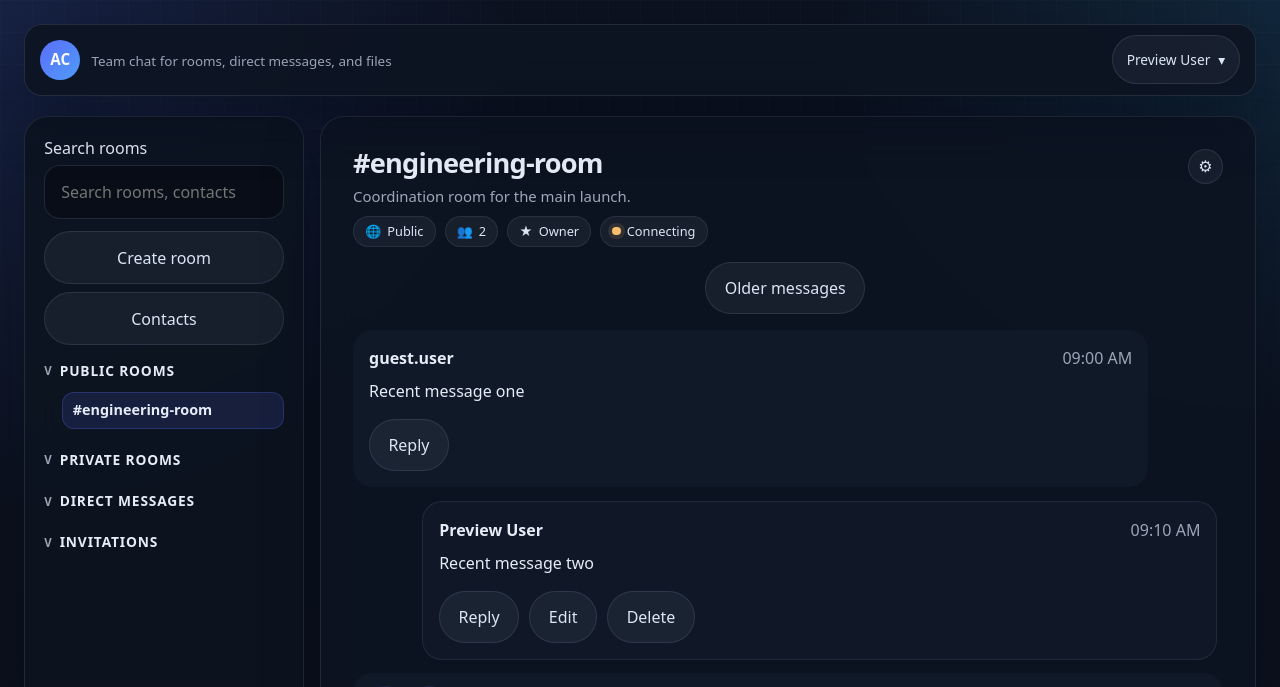
Message lifecycle › loads older room history incrementally
Expected: the text "Recent message one" is shown, [369,380,524,402]
Click the button "Older messages": (785, 288) [705,262,865,314]
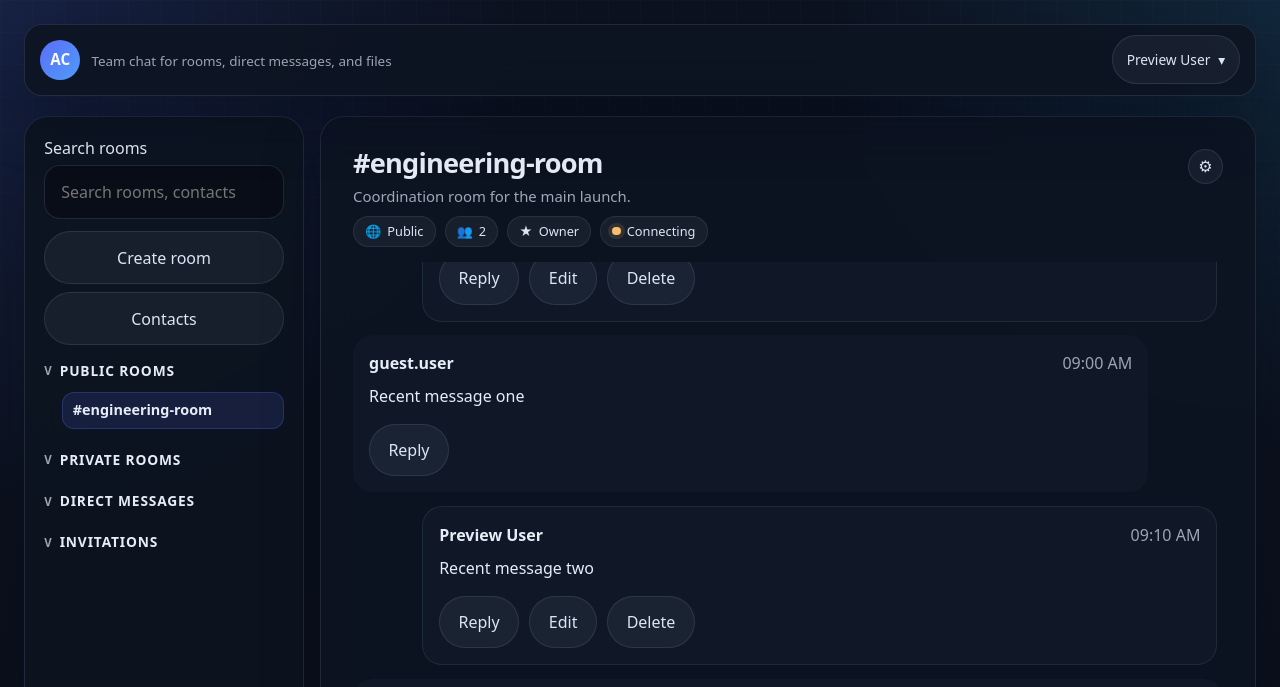
Result: the button "Older messages" is gone
